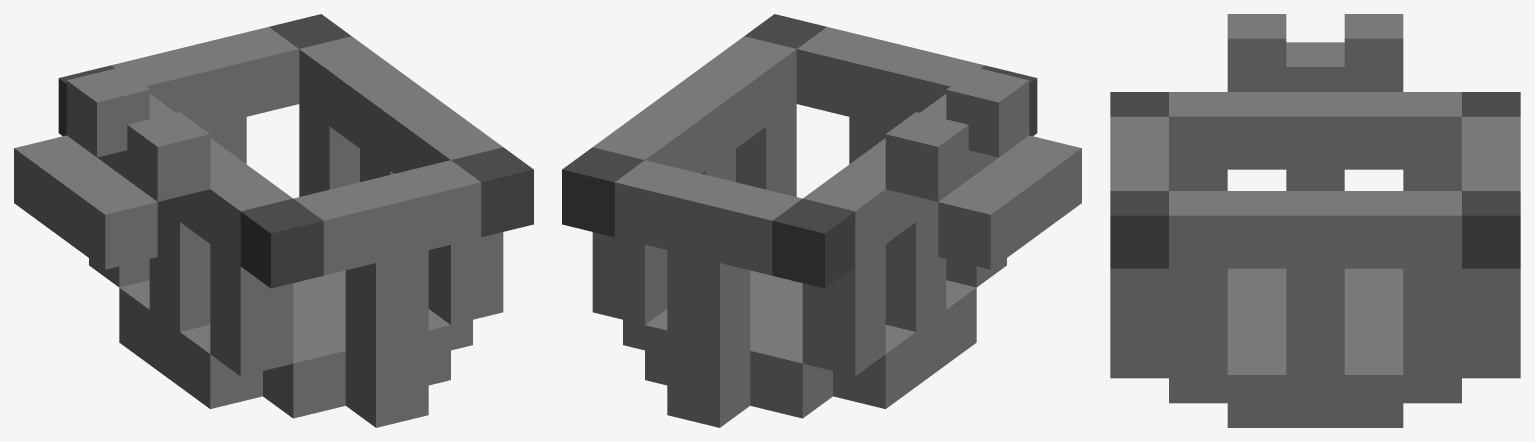
The model's file is Bike_Basket_Metal_Front.glb.
3 renders of one model, left to right at view 1: azimuth 30°, elevation 25°; view 2: azimuth 150°, elevation 25°; view 3: azimuth 270°, elevation 25°, orthographic. The views are drawn at different scales.
Visible parts, largest first — view 1: Bike_Basket_Metal_Front; view 2: Bike_Basket_Metal_Front; view 3: Bike_Basket_Metal_Front.
Boxes of the visible parts, left/top/right/bottom form: Bike_Basket_Metal_Front: left=14, top=14, right=533, bottom=427; Bike_Basket_Metal_Front: left=562, top=14, right=1081, bottom=427; Bike_Basket_Metal_Front: left=1110, top=14, right=1520, bottom=427.
Bounding box in the file's own units: 0.7 × 0.5 × 0.7.
1 material, 1 textured.
